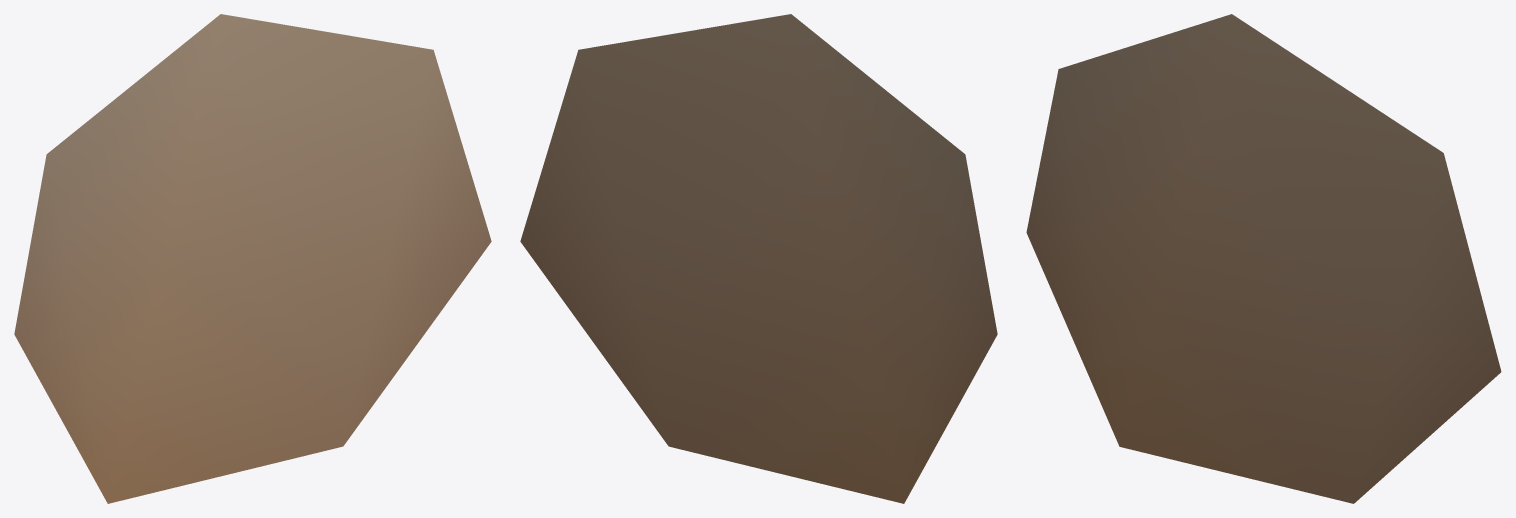
Rendered from CavePaintingSpot.glb.
3 renders of one model, left to right at view 1: azimuth 30°, elevation 25°; view 2: azimuth 150°, elevation 25°; view 3: azimuth 330°, elevation 25°, orthographic.
Visible parts, largest first — view 1: CavePaintingSpot; view 2: CavePaintingSpot; view 3: CavePaintingSpot.
Part boxes in pixels (box(x1,y1,x2,y2)): CavePaintingSpot: box(14, 14, 491, 503); CavePaintingSpot: box(520, 14, 997, 503); CavePaintingSpot: box(1026, 14, 1501, 503).
Bounding box in the file's own units: 0.019 × 0.0176 × 6.05e-08.
